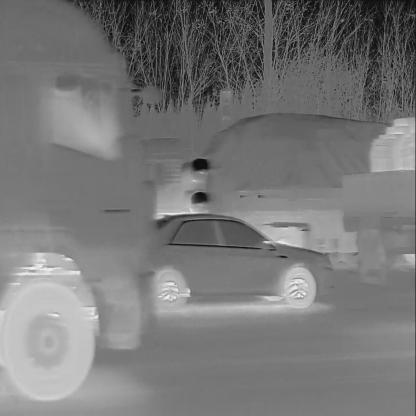car: (152, 214, 322, 306)
truck: (1, 0, 154, 406), (165, 107, 416, 270)
